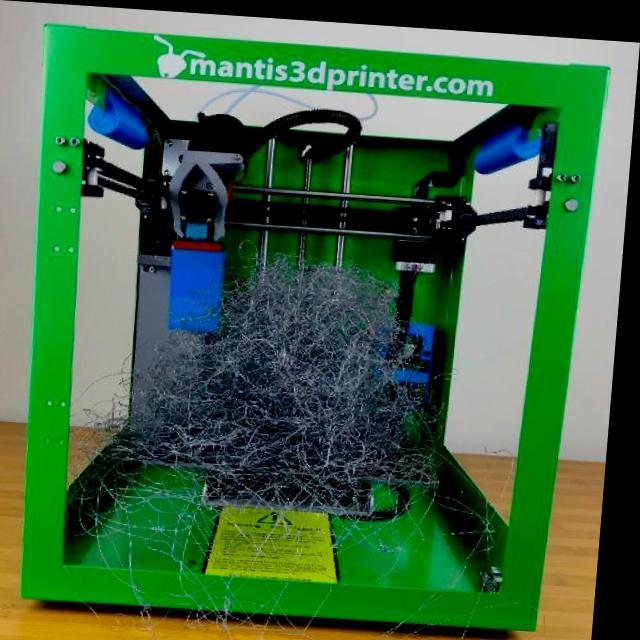spaghetti: (166, 264, 449, 522)
